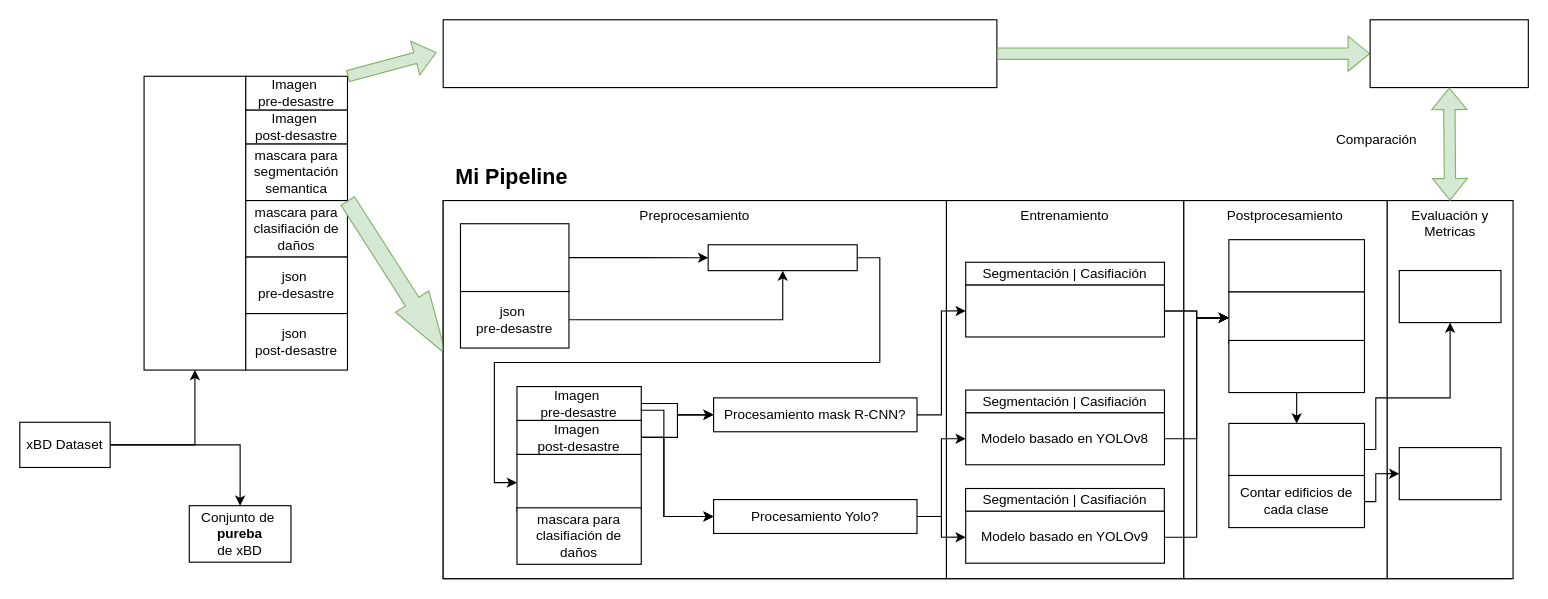
Some shapes in this 1548 by 599 pixel diagram are drawn without their labels. Each missing label, with the centre of its shape:
Cajas flotantes de cada edifico: point 1296,366
Conjunto de entrenamiento de xBD 7GB: point 194,222
Crear mascaras: point 782,257
Mascara de daño de todas las clases: point 1296,317
Mascara de instancias: point 1296,265
mascaras de segmentación instancias: point 578,482
mascaras de segmentación semantica: point 514,257
Metricas de clasifiación: point 1449,473
Metricas de segmentación: point 1449,296
Metricas del modelo base Tomadas de un paper: point 1448,53
Modelo basado en Mask R-CNN: point 1064,310
Pipeline Modelo base "Baseline" de la competencia xview 2019 que usa xBD: point 719,53
Refinamiento de bordes de mascara?: point 1296,449
